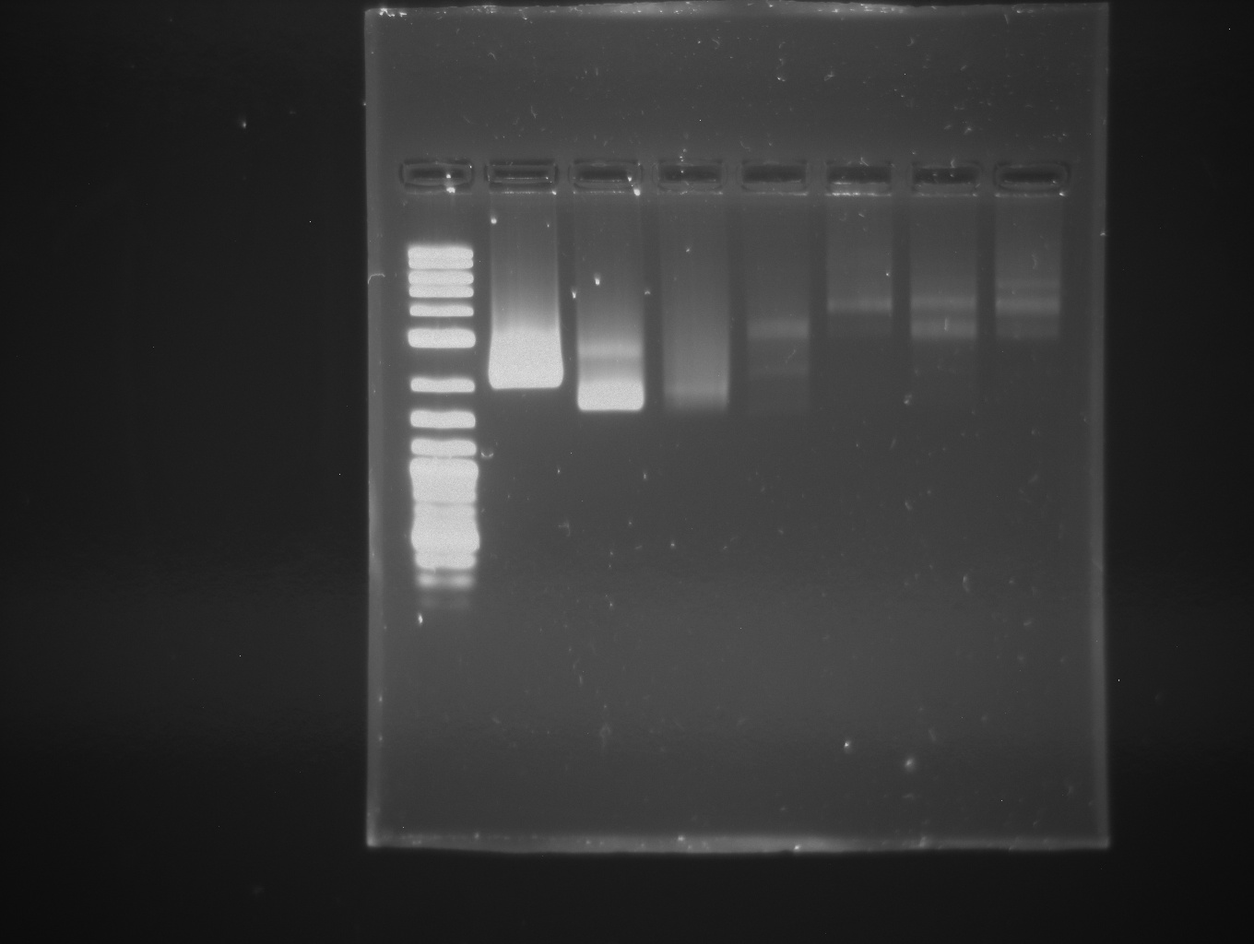Lane: (489, 120, 568, 842), (740, 120, 816, 852), (574, 122, 651, 839), (659, 115, 727, 857), (998, 129, 1070, 829), (823, 122, 892, 838), (914, 111, 980, 835)
ladder: (393, 116, 476, 842)
